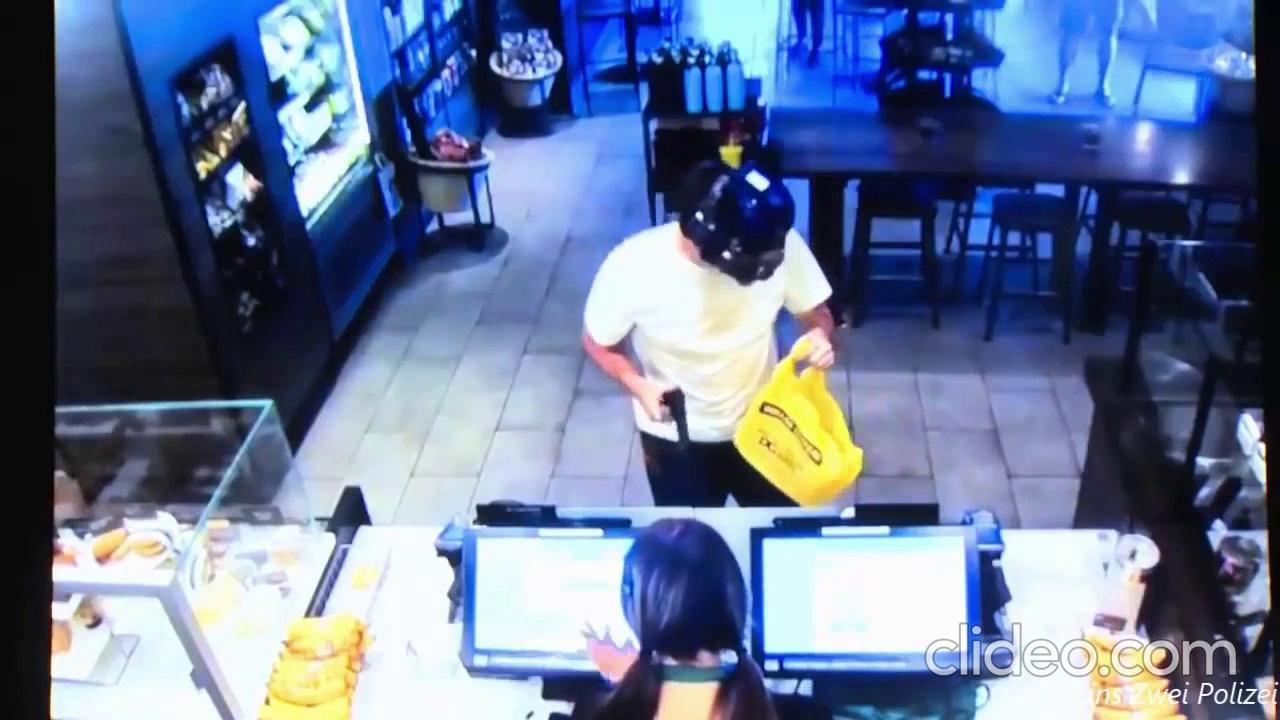person: (578, 156, 840, 507), (546, 512, 849, 720)
pistol: (654, 380, 697, 465)
